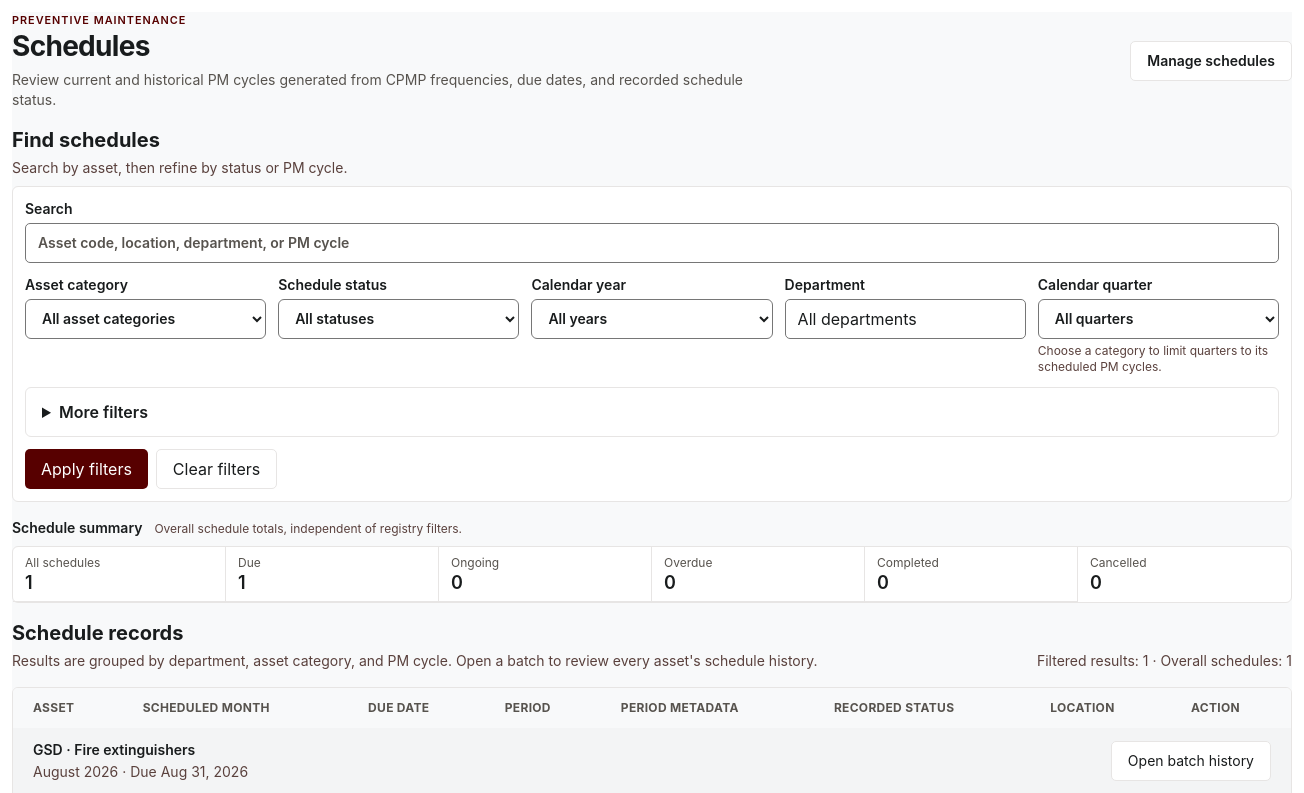
Scenario: schedule workflows › orders the schedule page sections and exposes management navigation
The image size is (1304, 793).
Expected: the dropdown labelled "Department" is shown, x1=785 y1=299 x2=1026 y2=339
Expected: the field labelled "Specific asset" is not shown
Click the heading "More filters" at (103,412), box x1=59 y1=402 x2=148 y2=422
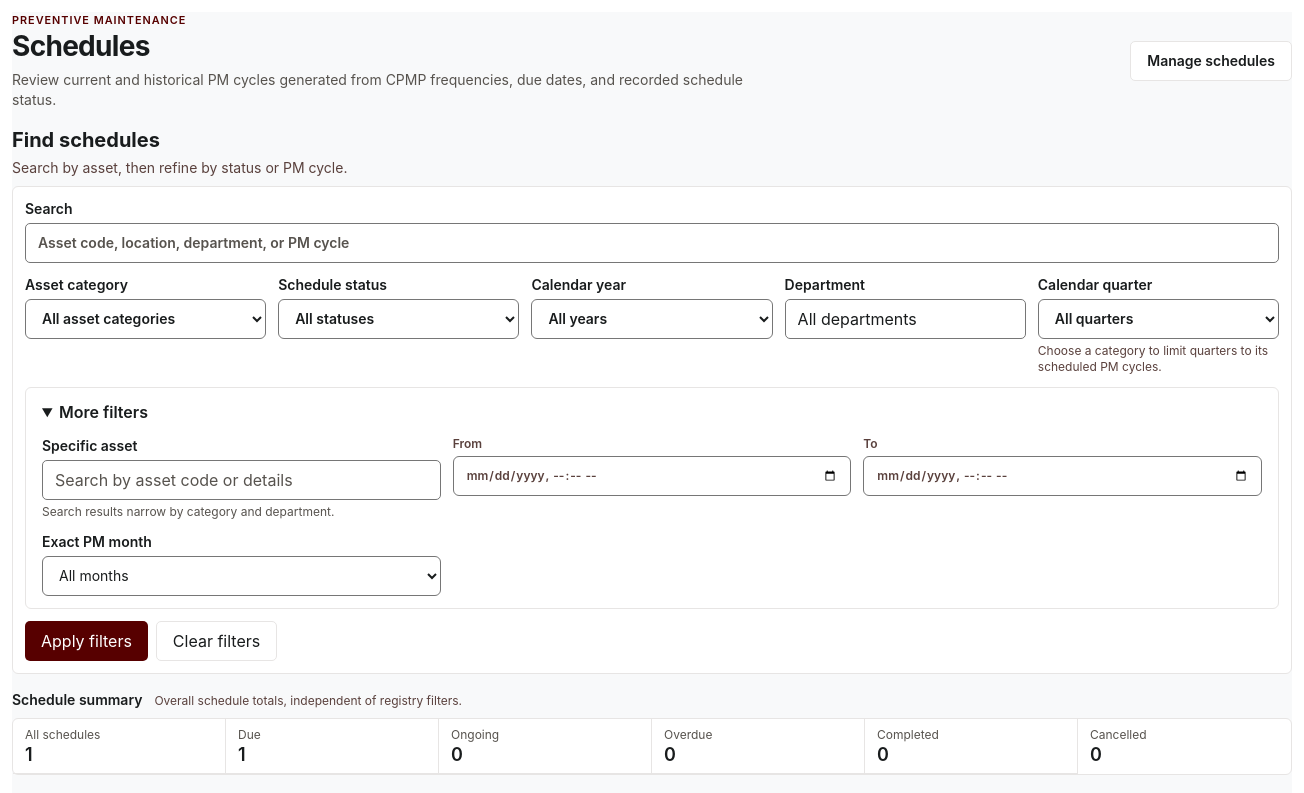
Expected: the dropdown labelled "Department" is shown, x1=785 y1=299 x2=1026 y2=339
Expected: the dropdown labelled "Specific asset" is shown, x1=42 y1=460 x2=441 y2=500
Click the heading "More filters" at (103,412), box x1=59 y1=402 x2=148 y2=422
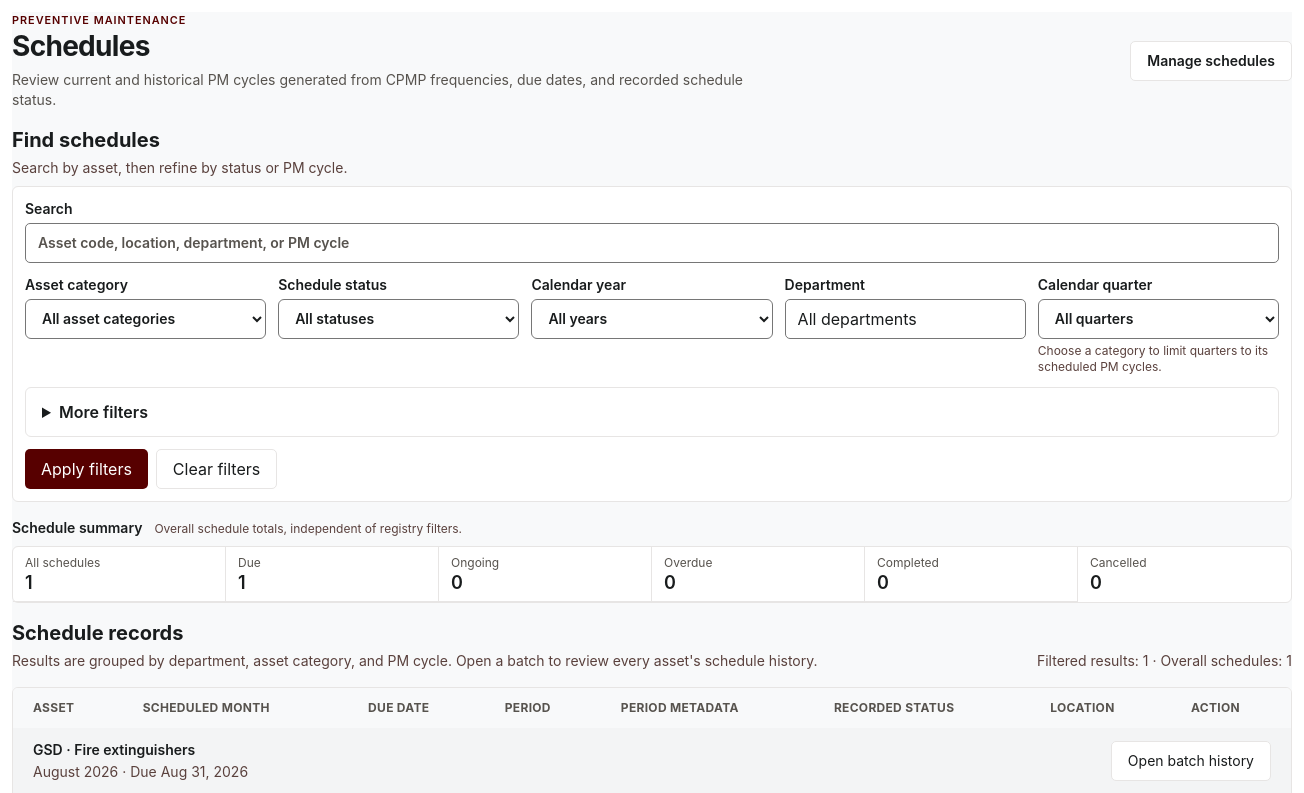
Expected: the dropdown labelled "Department" is shown, x1=785 y1=299 x2=1026 y2=339
Expected: the label labelled "Specific asset" is gone
